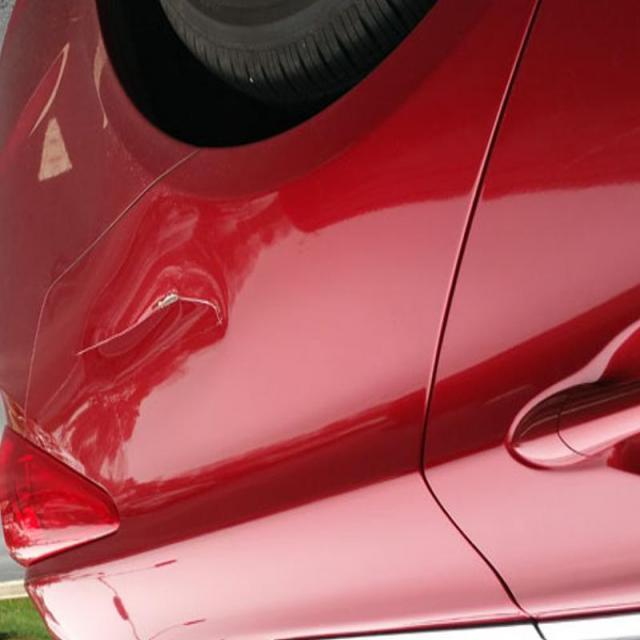dent: (63, 278, 226, 379)
